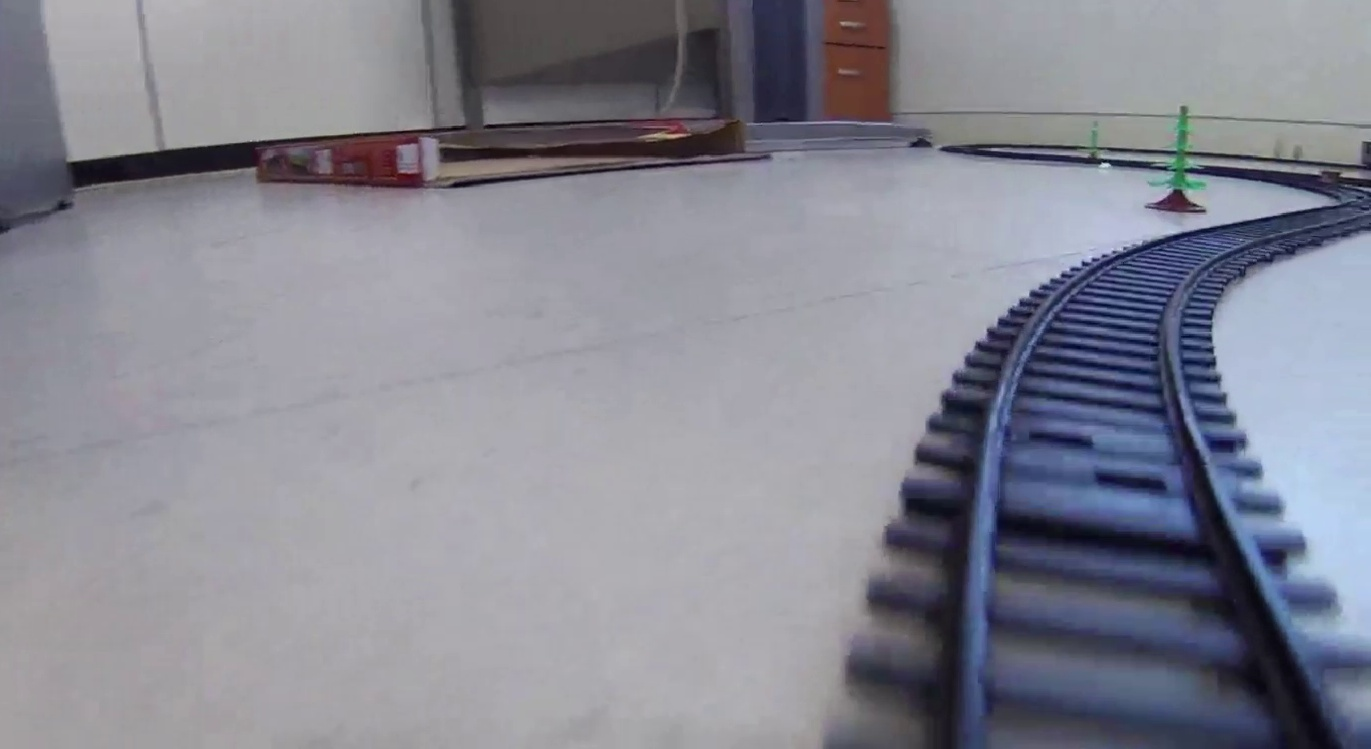tree: (1139, 105, 1208, 218)
